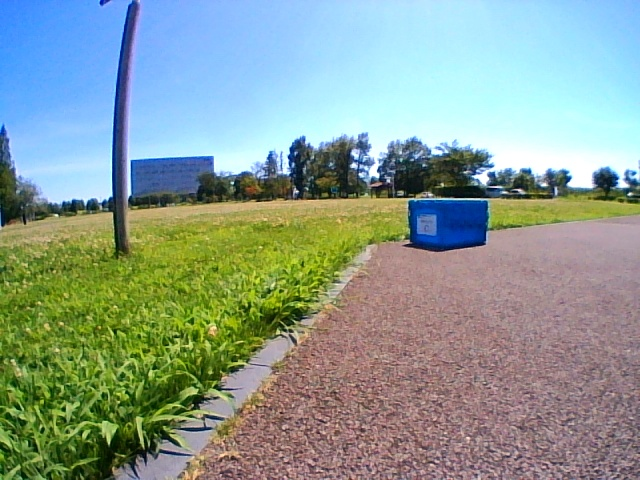blue_box: (409, 200, 487, 245)
tag_c: (418, 215, 435, 233)
